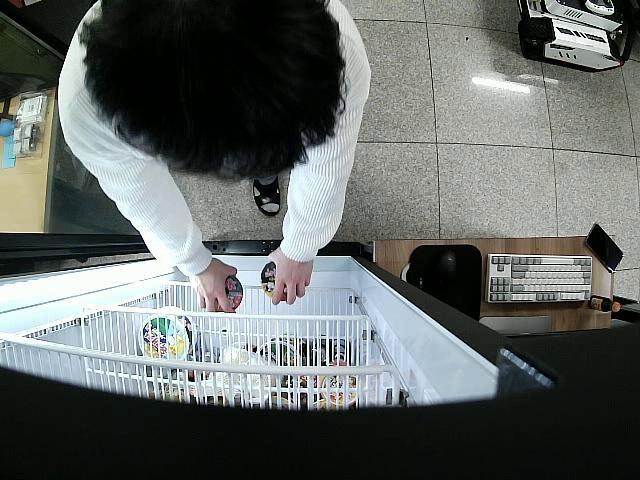08_buldak_S: (261, 262, 293, 300), (215, 272, 243, 312)
